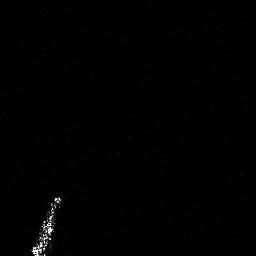ship: (26, 190, 66, 256)
